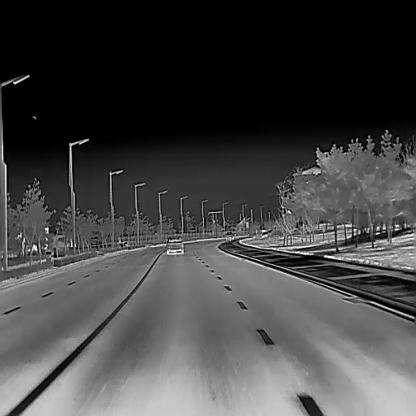car: (166, 235, 183, 253), (226, 232, 233, 240)
